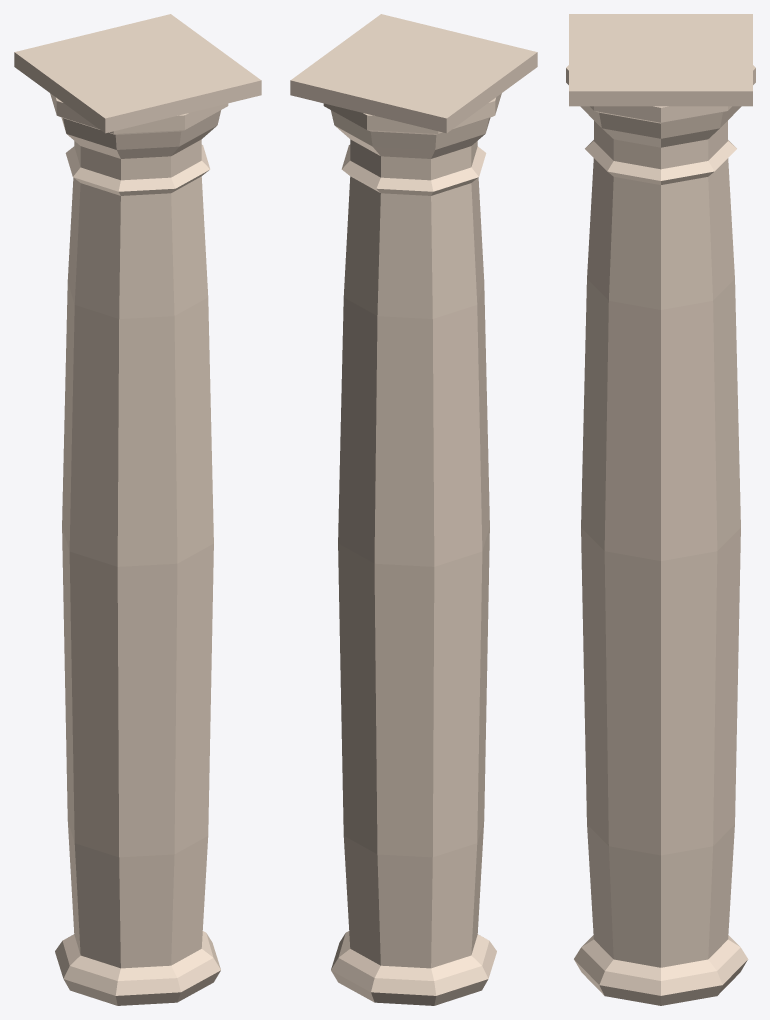
File: empire-pillar-tuscan-medium-empire.glb
3 renders of one model, left to right at view 1: azimuth 30°, elevation 25°; view 2: azimuth 150°, elevation 25°; view 3: azimuth 270°, elevation 25°, orthographic.
Parts seen in each view (by area): view 1: SM_Pillar_Tuscan_Medium_Empire; view 2: SM_Pillar_Tuscan_Medium_Empire; view 3: SM_Pillar_Tuscan_Medium_Empire.
Boxes of the visible parts, x1,y1,x2,y2 form: SM_Pillar_Tuscan_Medium_Empire: [14, 14, 261, 1005]; SM_Pillar_Tuscan_Medium_Empire: [290, 14, 537, 1005]; SM_Pillar_Tuscan_Medium_Empire: [566, 14, 755, 1005].
Size of the model in its own units: 1.12 by 6 by 1.12.
